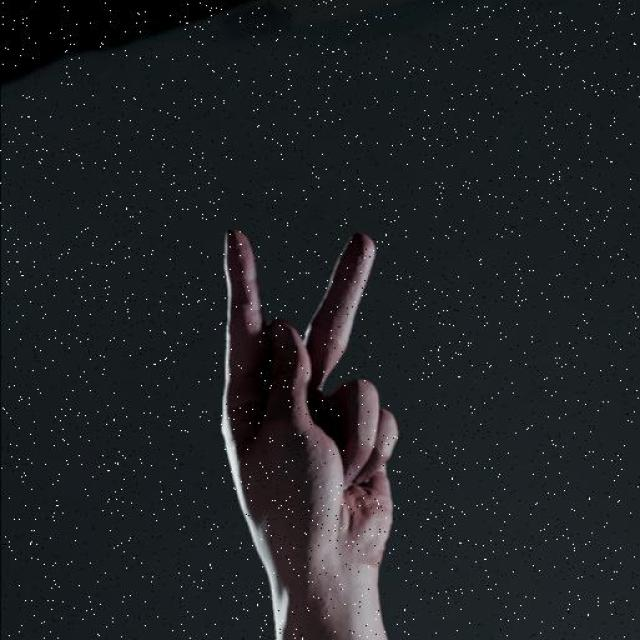K: (190, 206, 431, 640)
